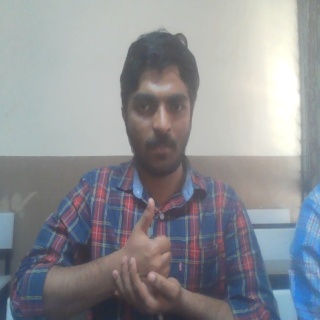Face: (118, 29, 201, 176)
Help: (105, 196, 185, 316)
